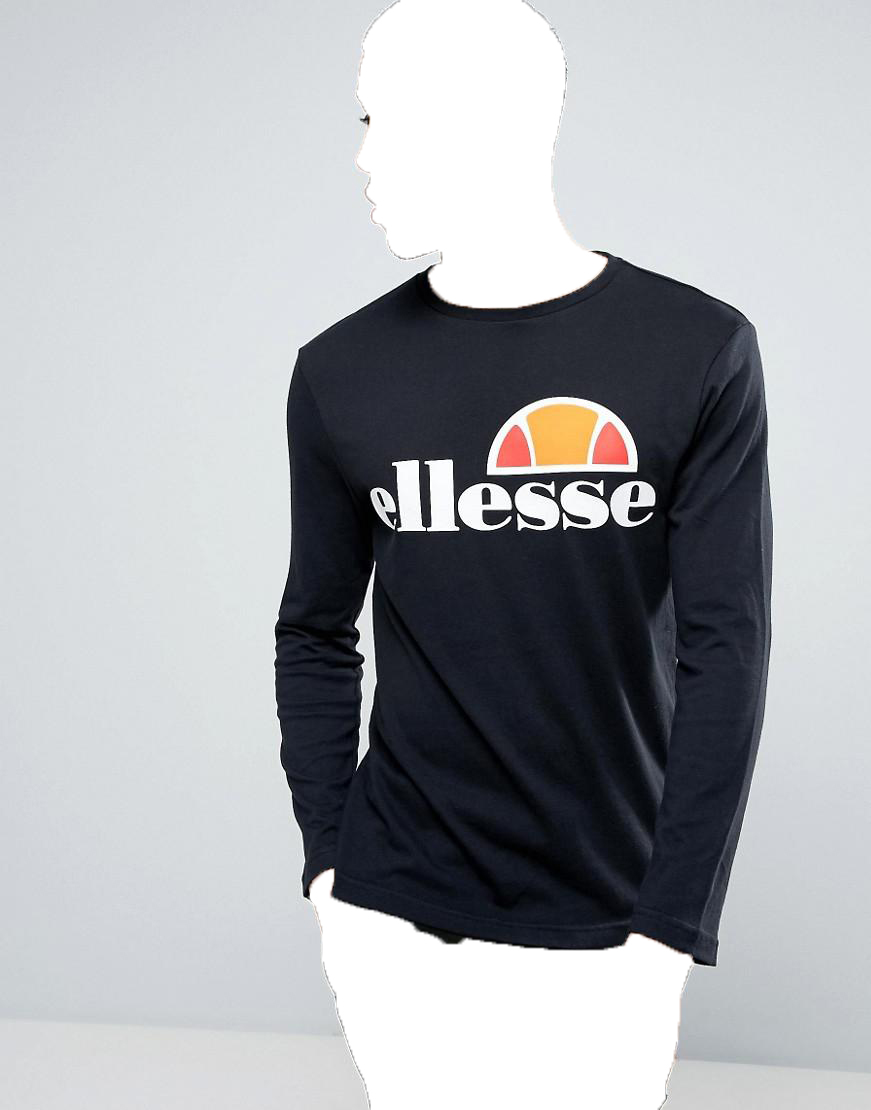teeshirt: (254, 246, 783, 981)
